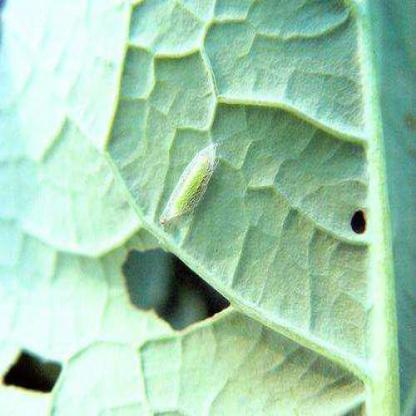armyworm: (156, 141, 220, 226)
